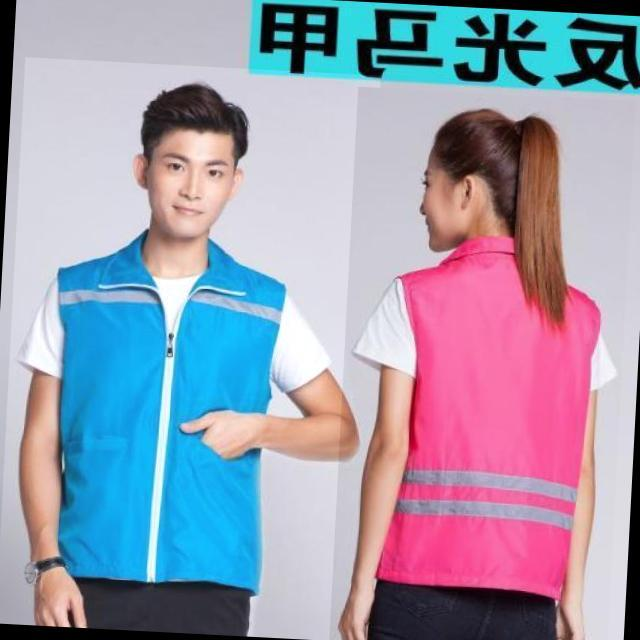Human: (0, 57, 381, 640), (329, 86, 636, 640)
Safety Vest: (24, 223, 298, 590), (366, 232, 607, 599)
